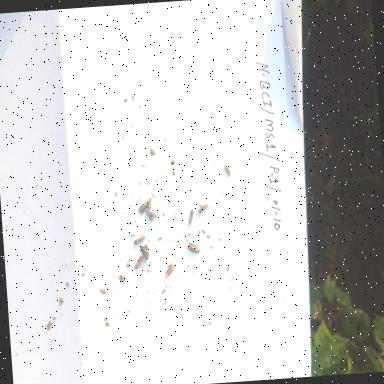pbw: (182, 236, 204, 258), (220, 156, 238, 180), (128, 227, 149, 247), (162, 258, 181, 280), (139, 240, 157, 262), (194, 199, 214, 217), (182, 205, 198, 227), (133, 199, 152, 216), (144, 192, 158, 210), (144, 208, 158, 221), (132, 254, 143, 269)
